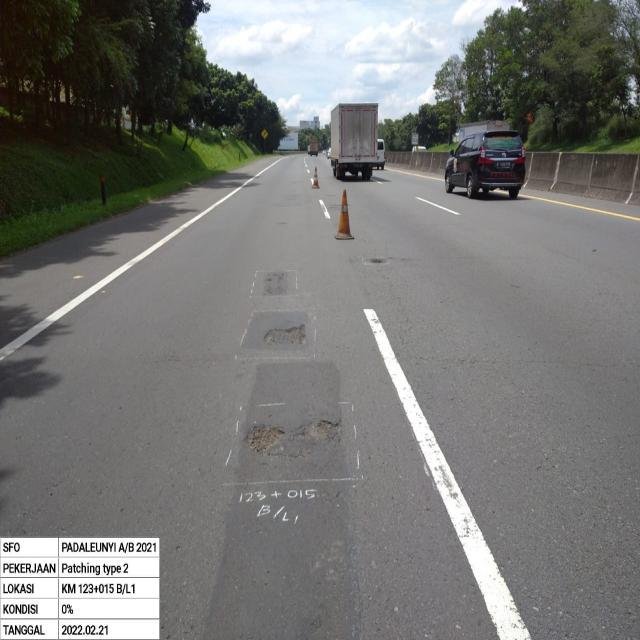Buraco: (290, 416, 346, 445), (243, 423, 288, 455), (261, 322, 308, 348), (366, 256, 391, 266)
